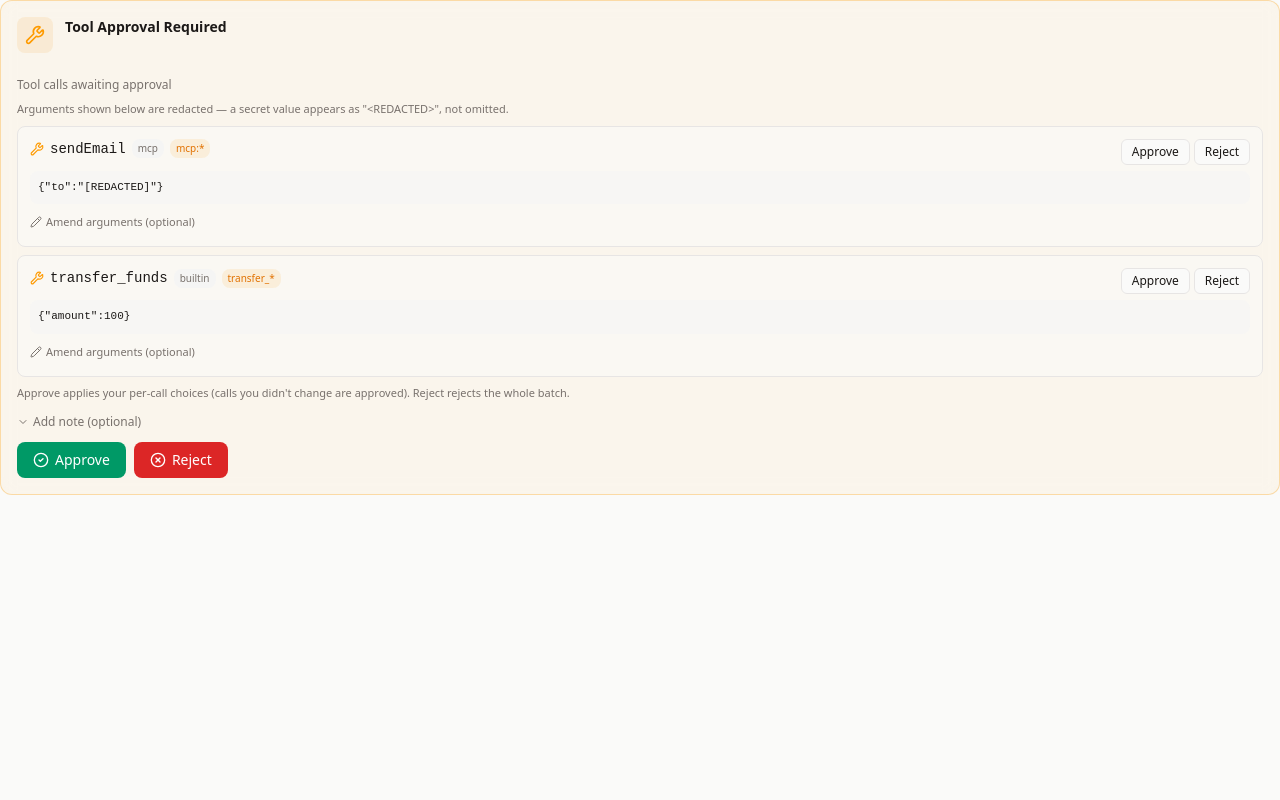
ApprovalBanner › TOOL_CALL pause › blocks submission and shows an error when amended arguments are not a JSON object
The width and height of the screenshot is (1280, 800).
Click the button with test id "tool-amend-toggle-c1": coordinates (112, 222) top-left (30, 214), bottom-right (195, 231)
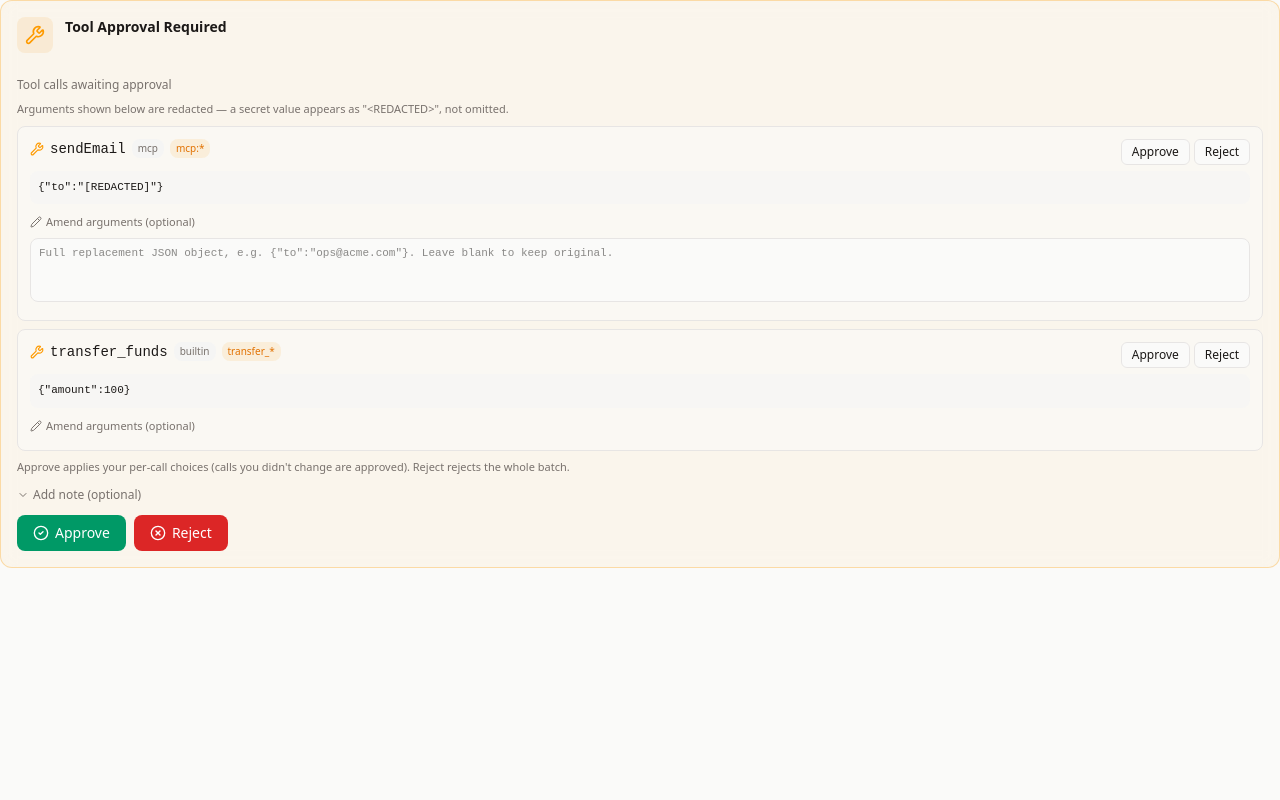
Replace the text in the text box with test id "tool-amend-c1" with "not json": coordinates (640, 270) top-left (30, 238), bottom-right (1250, 302)
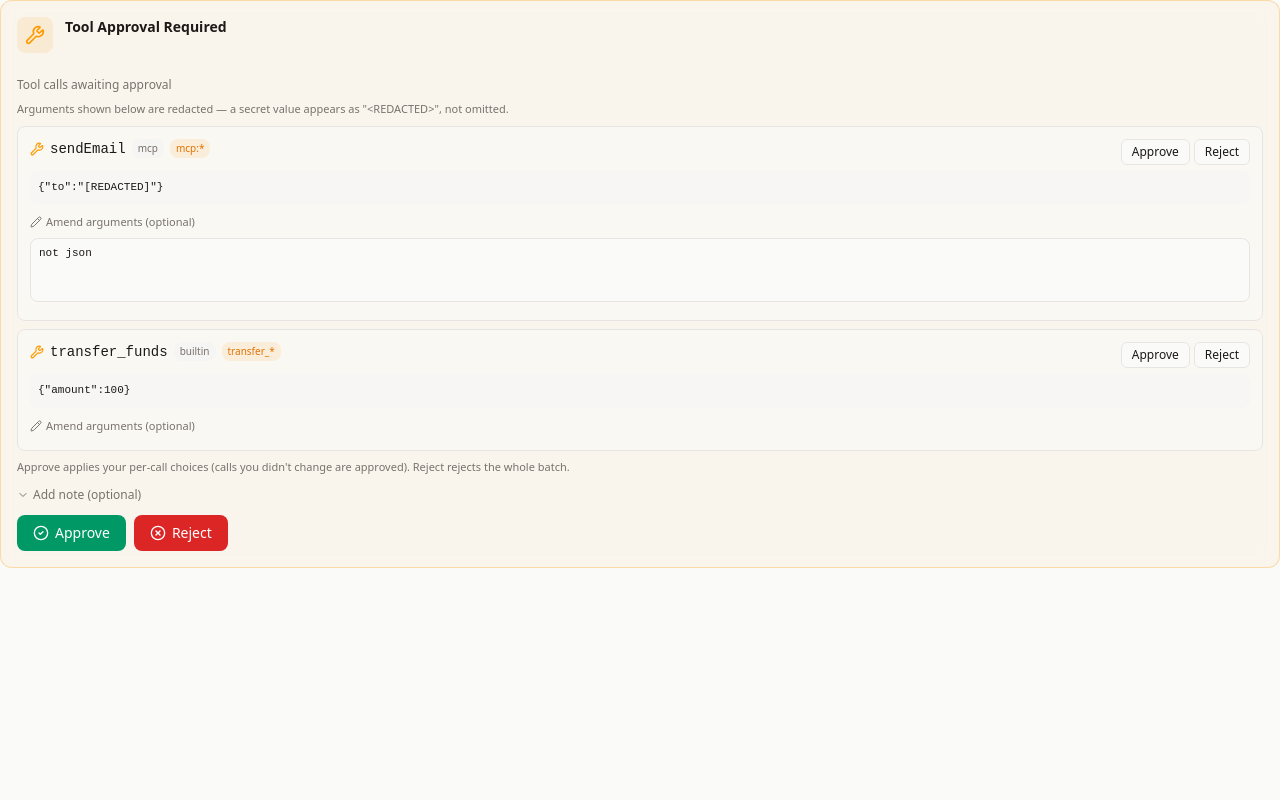
Click the button with test id "approve-button": coordinates (71, 533) top-left (17, 515), bottom-right (126, 551)
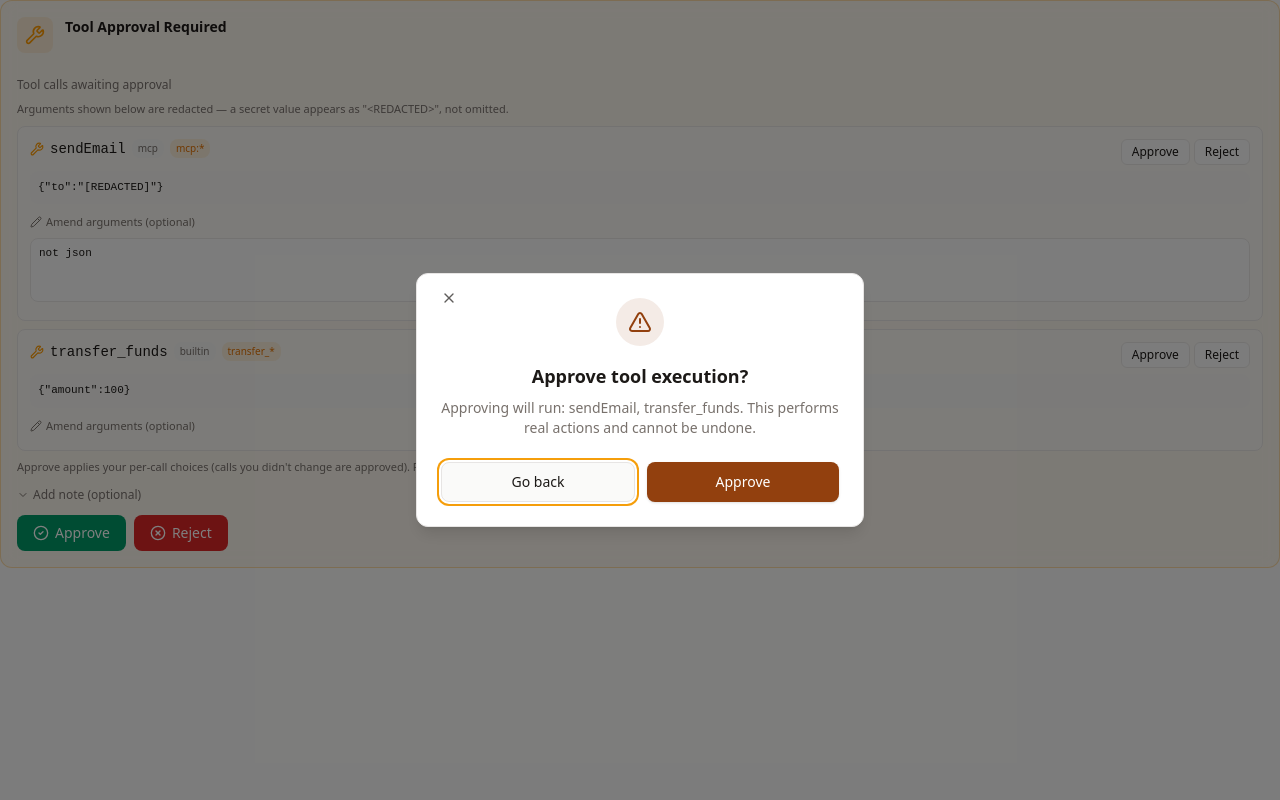
Click the button "Approve": coordinates (743, 482) top-left (647, 462), bottom-right (839, 502)
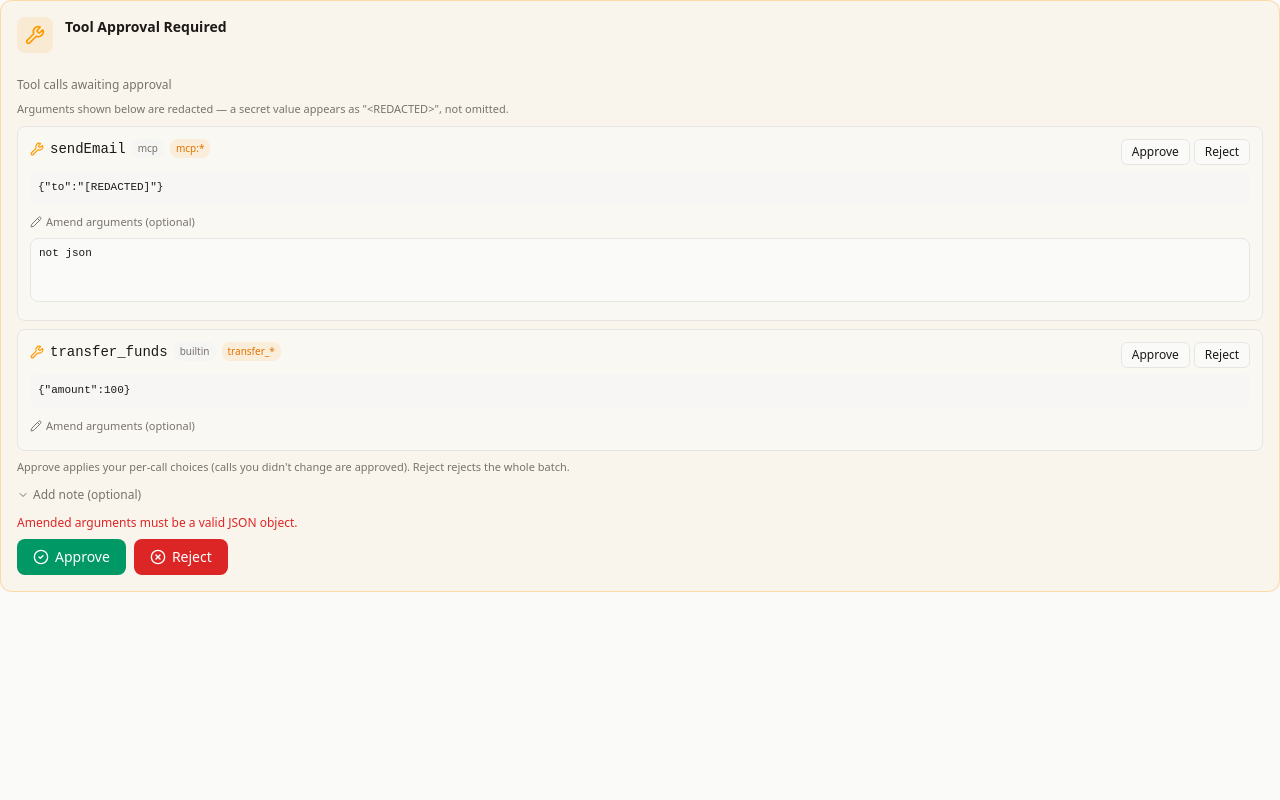
Now the text "Amended arguments must be a valid JSON object." is shown, box top-left (17, 514), bottom-right (298, 531)
